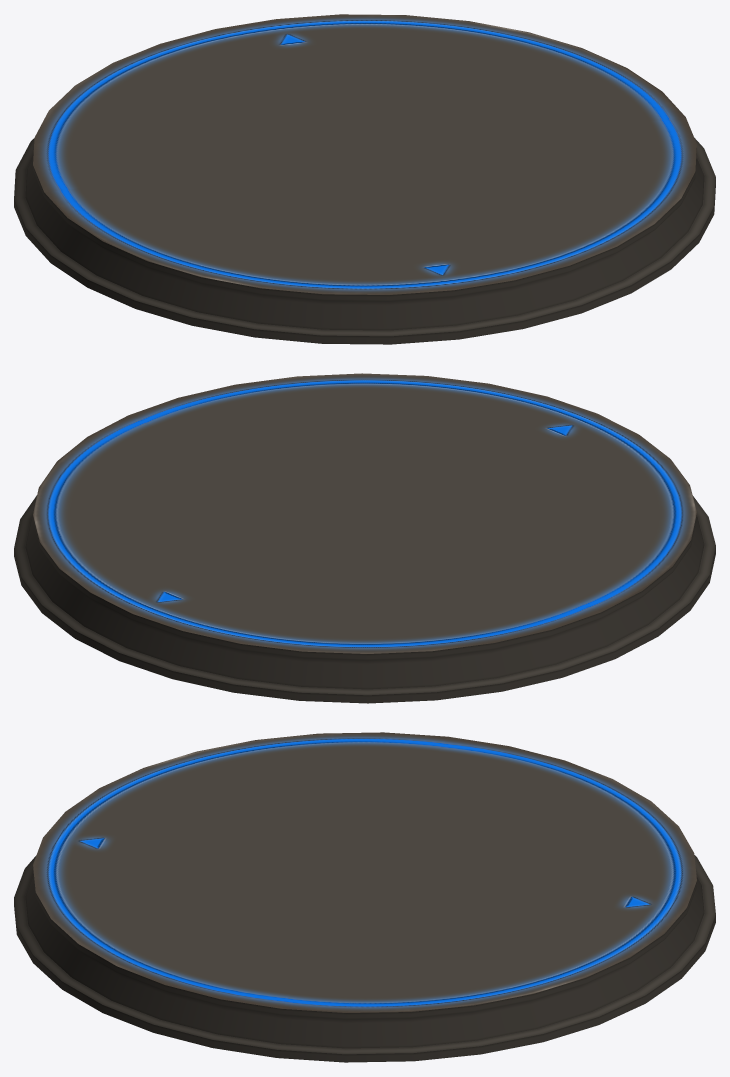
The model's file is car_stand.FBX.
3 renders of one model, top to bottom at view 1: azimuth 30°, elevation 25°; view 2: azimuth 150°, elevation 25°; view 3: azimuth 270°, elevation 25°, orthographic.
Parts seen in each view (by area): view 1: Cylinder001; view 2: Cylinder001; view 3: Cylinder001.
Part boxes in pixels (<box>): Cylinder001: <box>14,14,715,344</box>; Cylinder001: <box>14,373,715,703</box>; Cylinder001: <box>14,732,715,1062</box>.
Size of the model in its own units: 0.7102 by 0.0463 by 0.7102.
